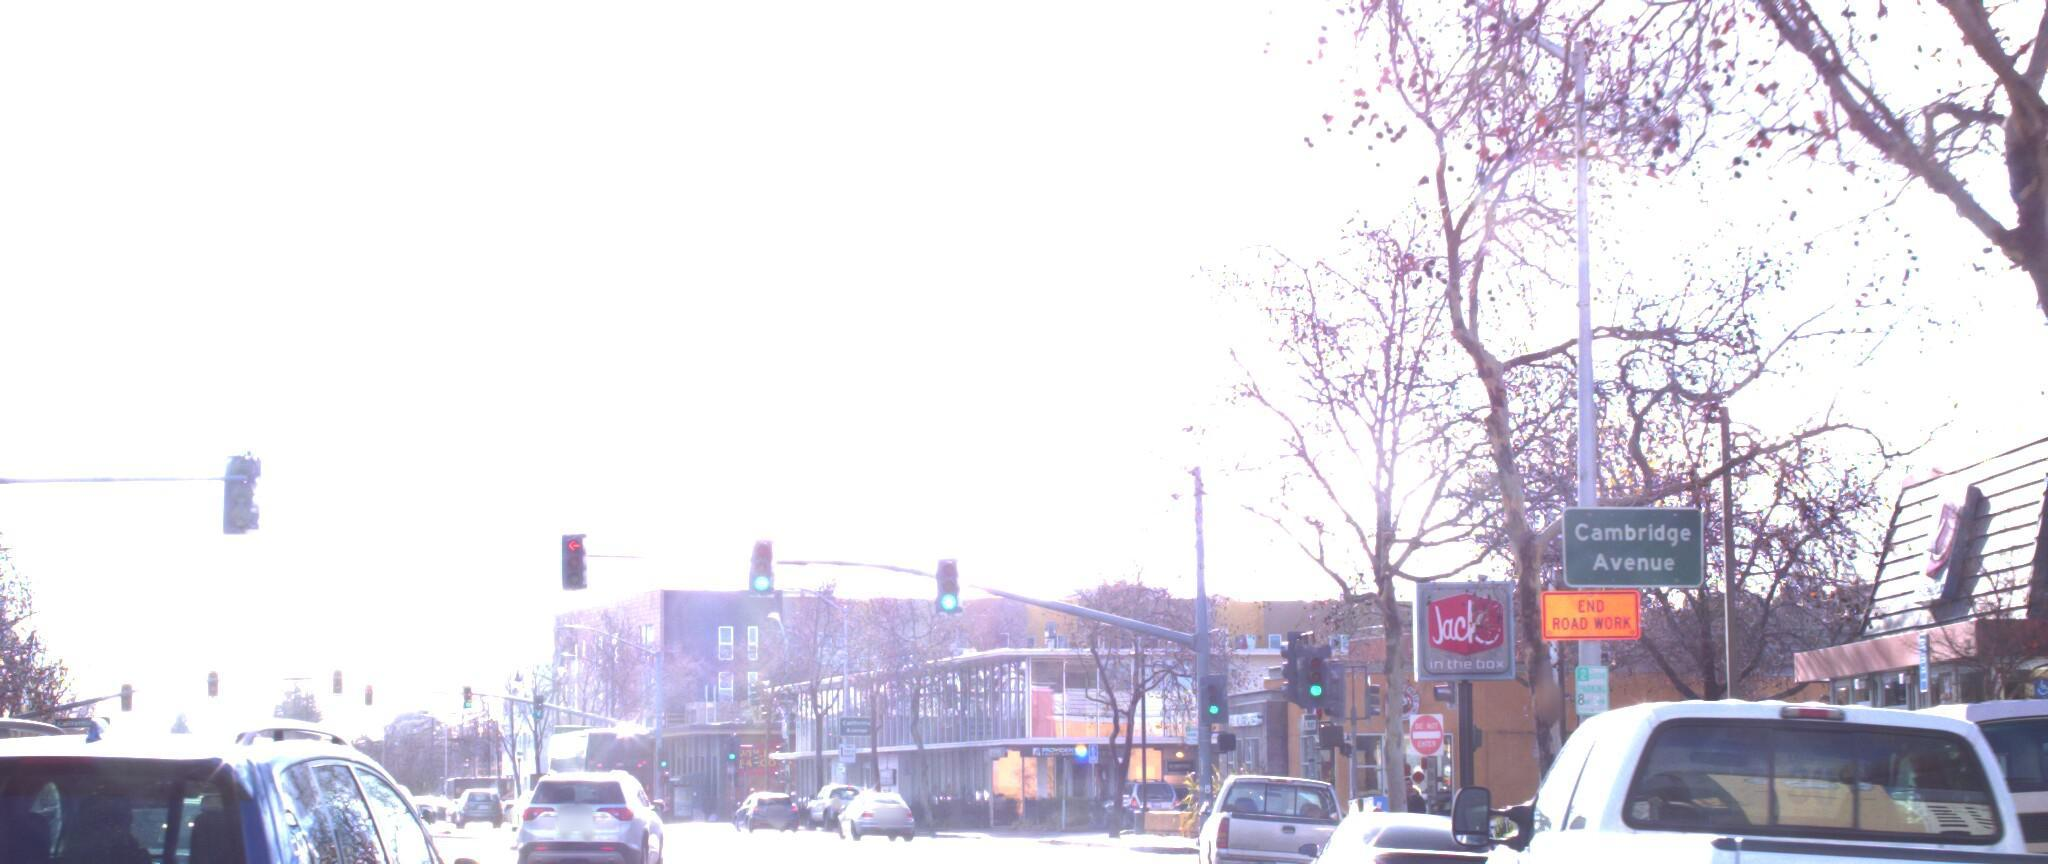car: (1432, 650, 2048, 864), (0, 705, 534, 864), (1819, 638, 2048, 864), (1806, 675, 2048, 864), (1179, 747, 1354, 864), (503, 740, 657, 861), (1285, 790, 1520, 864)
